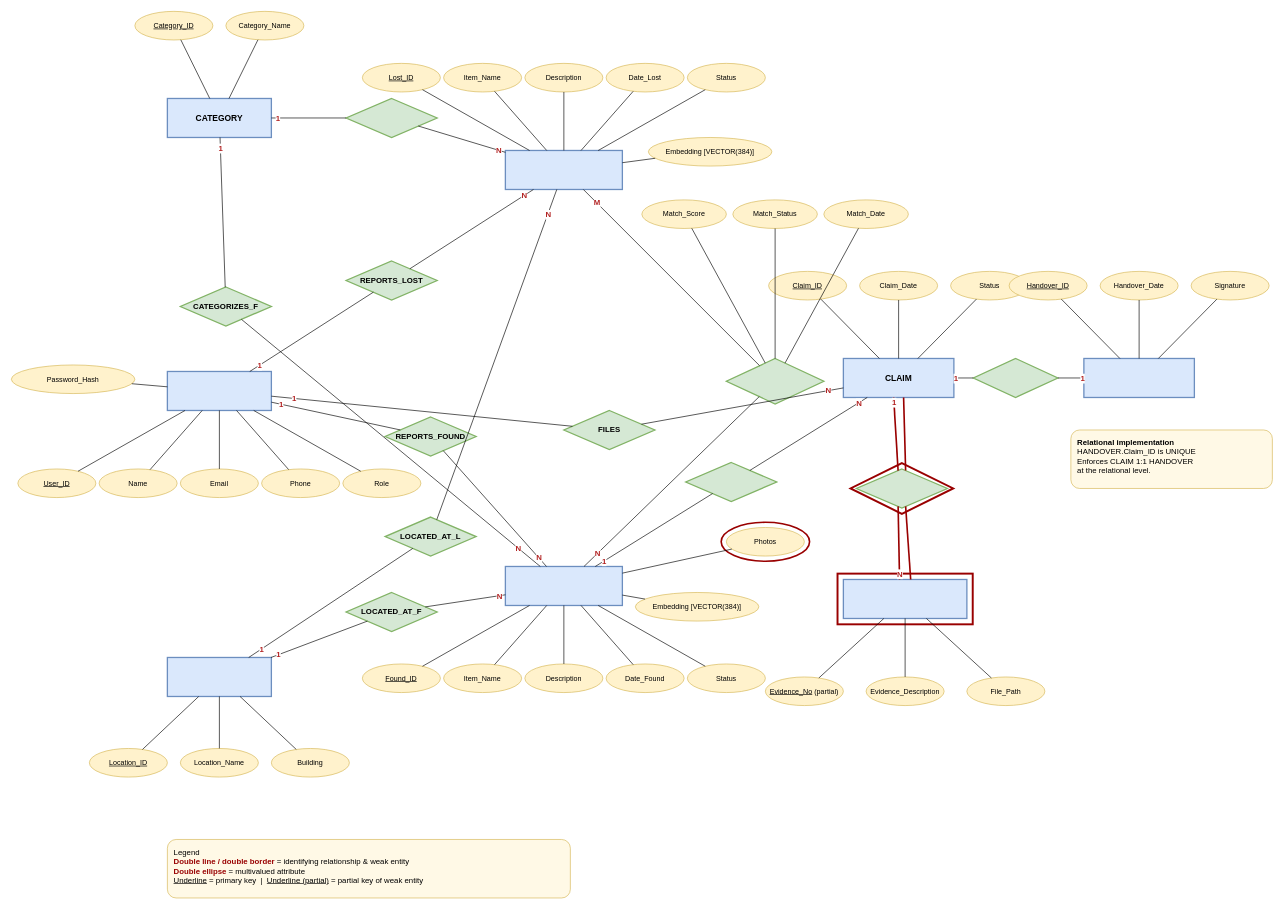
Some shapes in this 1284 by 909 pixel diagram are drawn without their labels. Each missing label, with the centre of its shape:
CATEGORIZES: point 391,118
CLAIM_EVIDENCE: point 904,598
CLAIMS_ITEM: point 731,482
FOUND_REPORT: point 563,586
HANDOVER: point 1139,378
HAS_EVIDENCE: point 901,488
LOCATION: point 219,676
LOST_REPORT: point 563,170
MATCHES: point 774,381
RESULTS_IN: point 1015,378
USER: point 219,390
